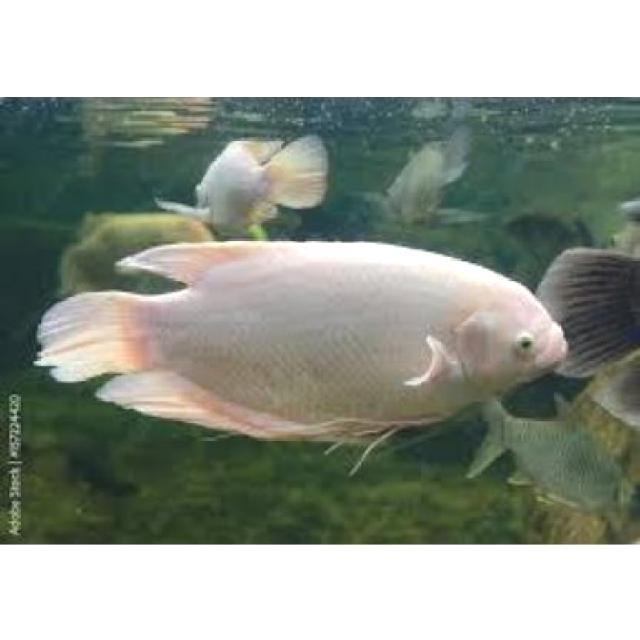gurame: (38, 236, 572, 453)
